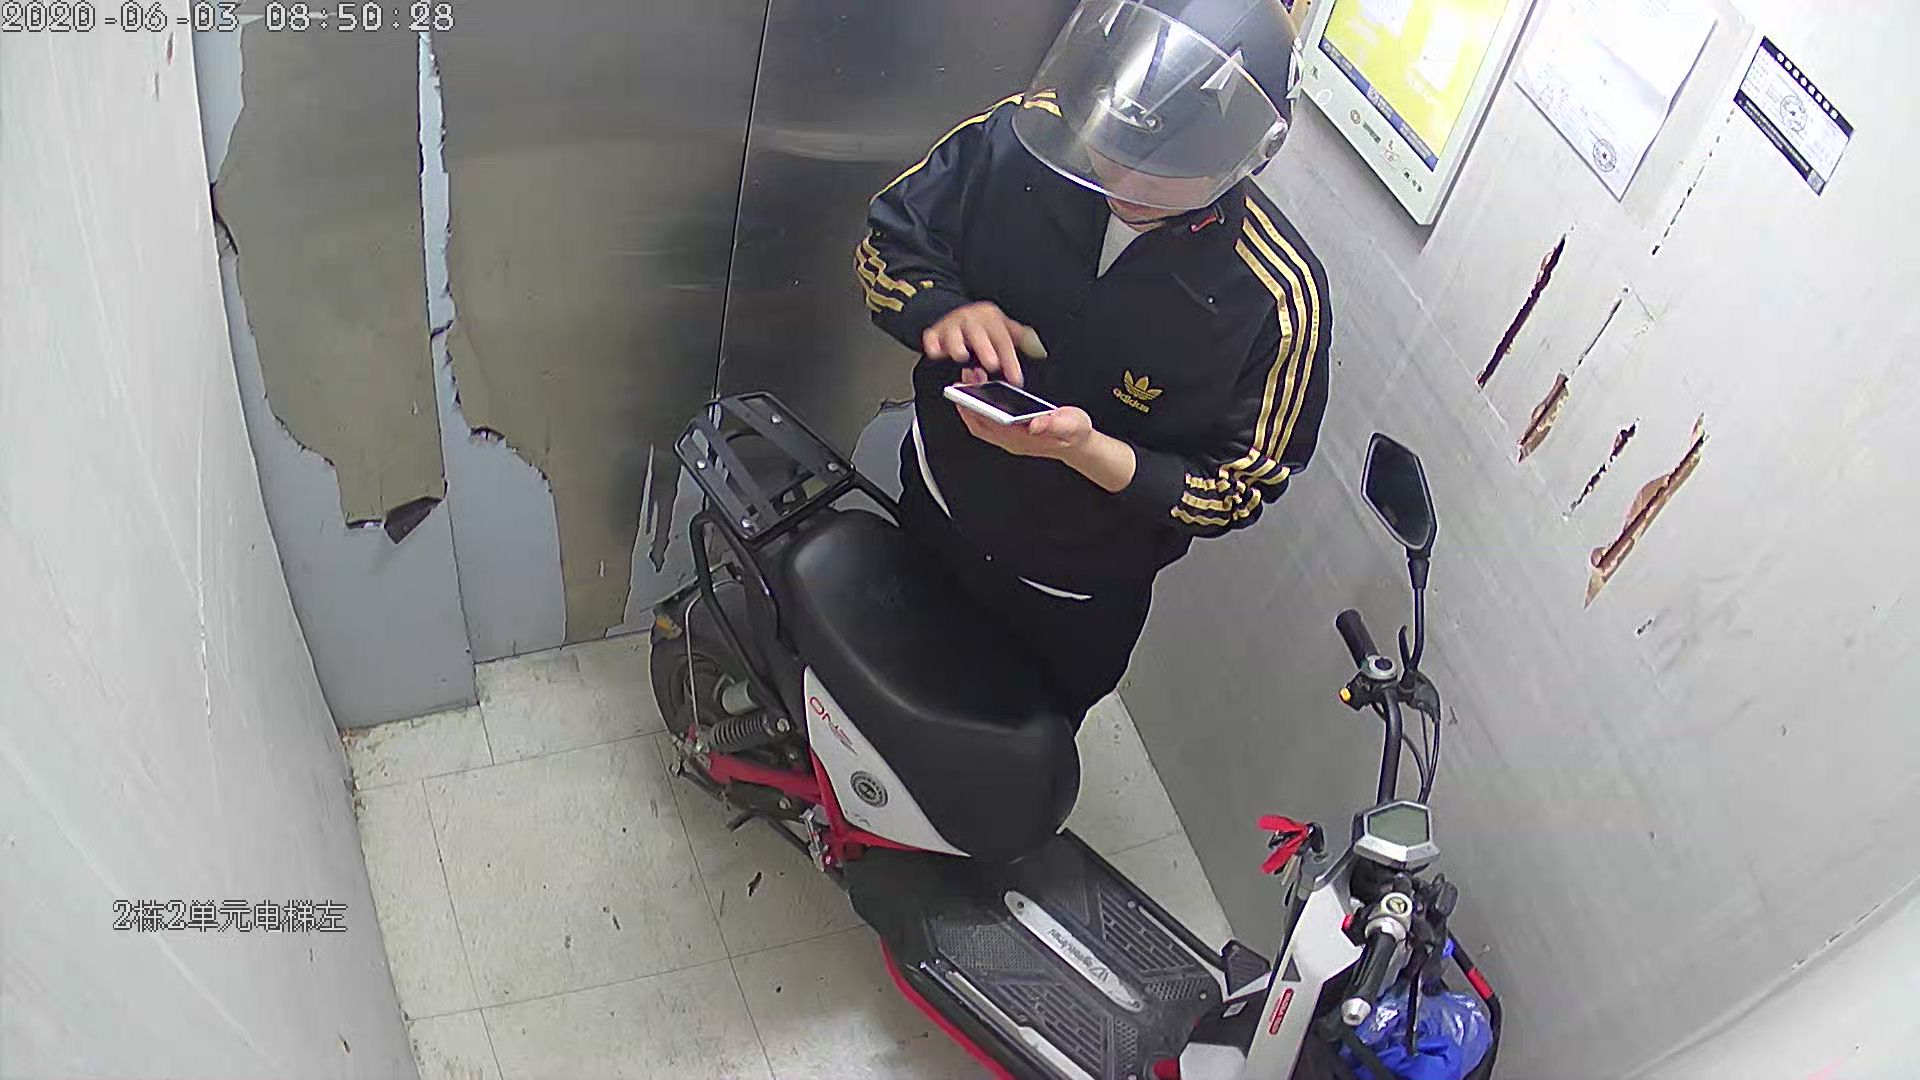Electric-bicycle: (646, 388, 1501, 1071)
